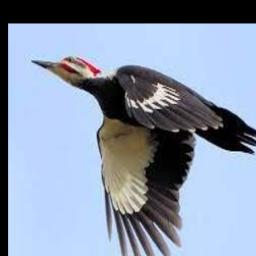Woodpecker: (30, 55, 256, 256)
